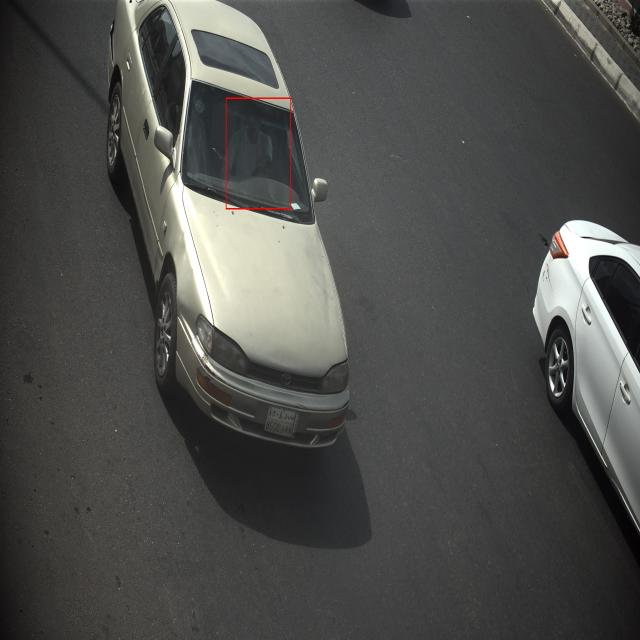windshield: (178, 73, 316, 233)
